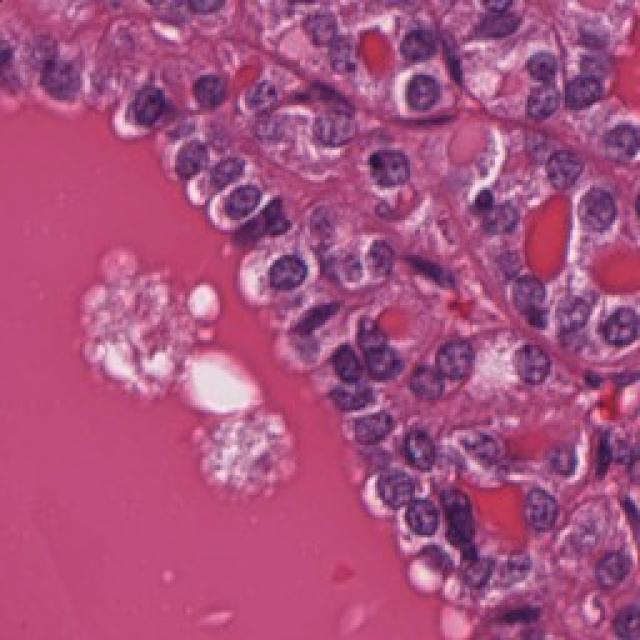abnormal: (335, 128, 443, 220), (222, 230, 338, 306), (484, 326, 568, 422), (20, 32, 106, 116), (552, 170, 636, 246), (111, 58, 176, 155), (549, 255, 606, 356), (510, 466, 582, 541), (572, 535, 640, 609), (341, 462, 434, 515), (387, 66, 469, 124)
